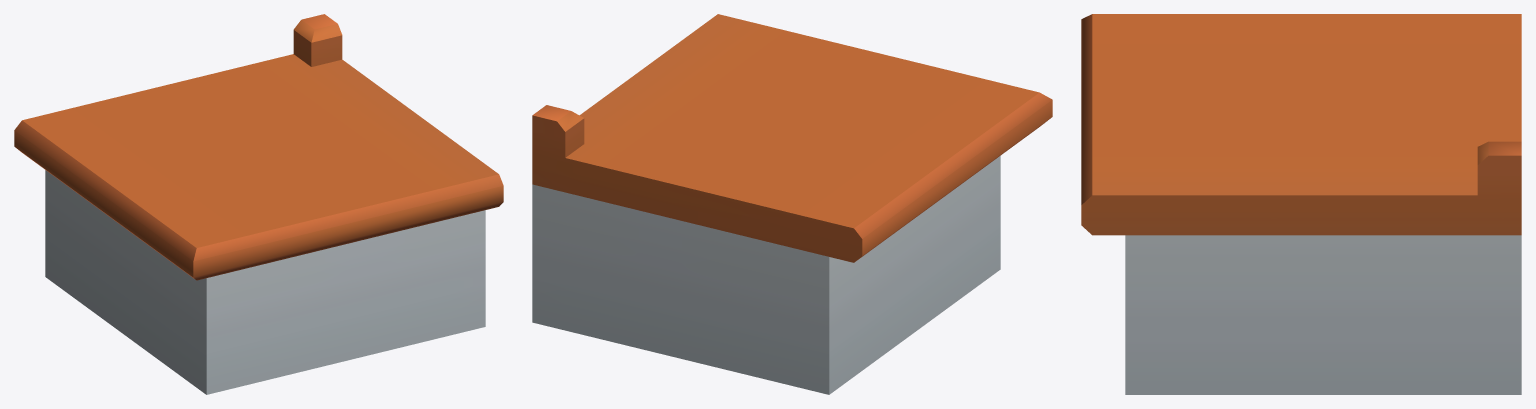
Rendered from kkr.kitchencounter_outercorner_backsplash.glb.
3 renders of one model, left to right at view 1: azimuth 30°, elevation 25°; view 2: azimuth 150°, elevation 25°; view 3: azimuth 270°, elevation 25°, orthographic. The views are drawn at different scales.
Visible parts, largest first — view 1: kitchencounter_outercorner_backsplash; view 2: kitchencounter_outercorner_backsplash; view 3: kitchencounter_outercorner_backsplash.
Part boxes in pixels (<box>): kitchencounter_outercorner_backsplash: <box>14,14,503,394</box>; kitchencounter_outercorner_backsplash: <box>532,14,1052,394</box>; kitchencounter_outercorner_backsplash: <box>1081,14,1521,394</box>.
Size of the model in its own units: 1.49 by 0.8941 by 1.49.
1 material, 1 textured.
